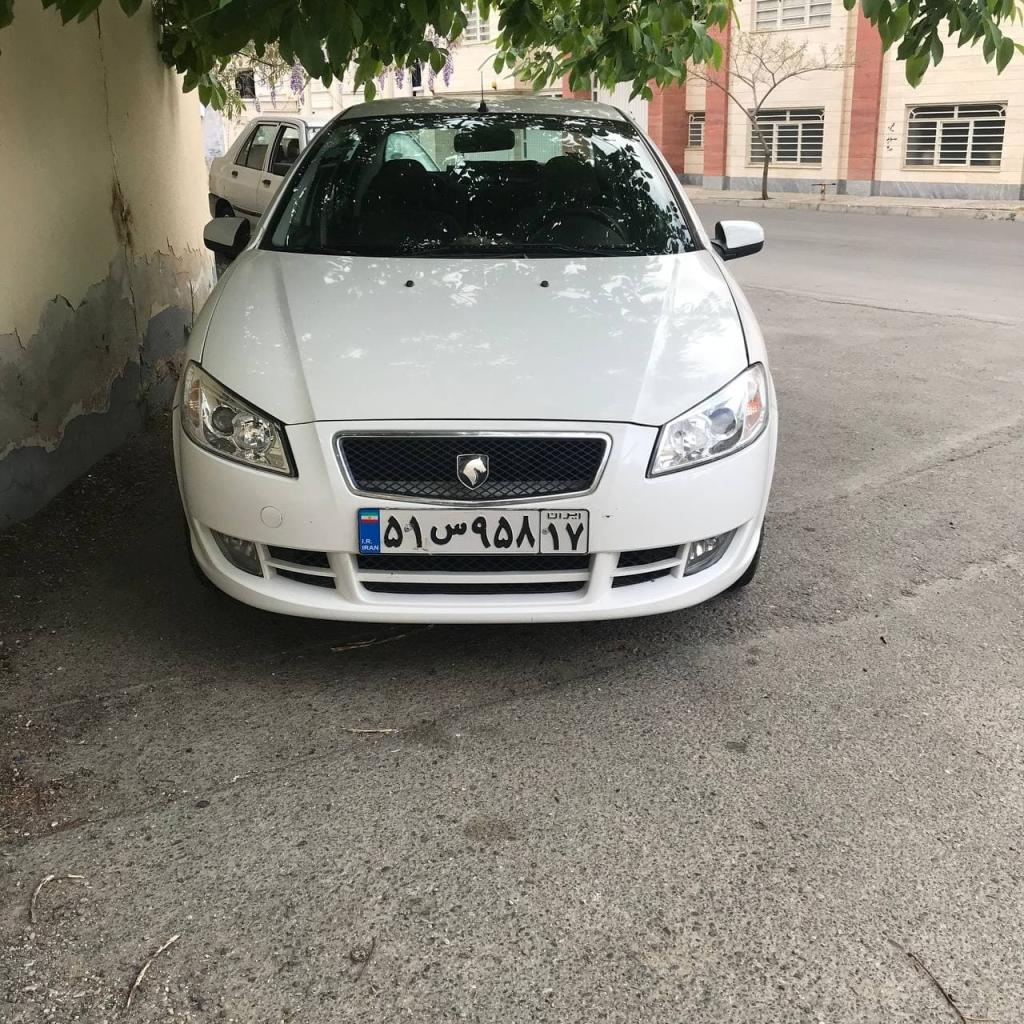Plates: (358, 510, 590, 553)
